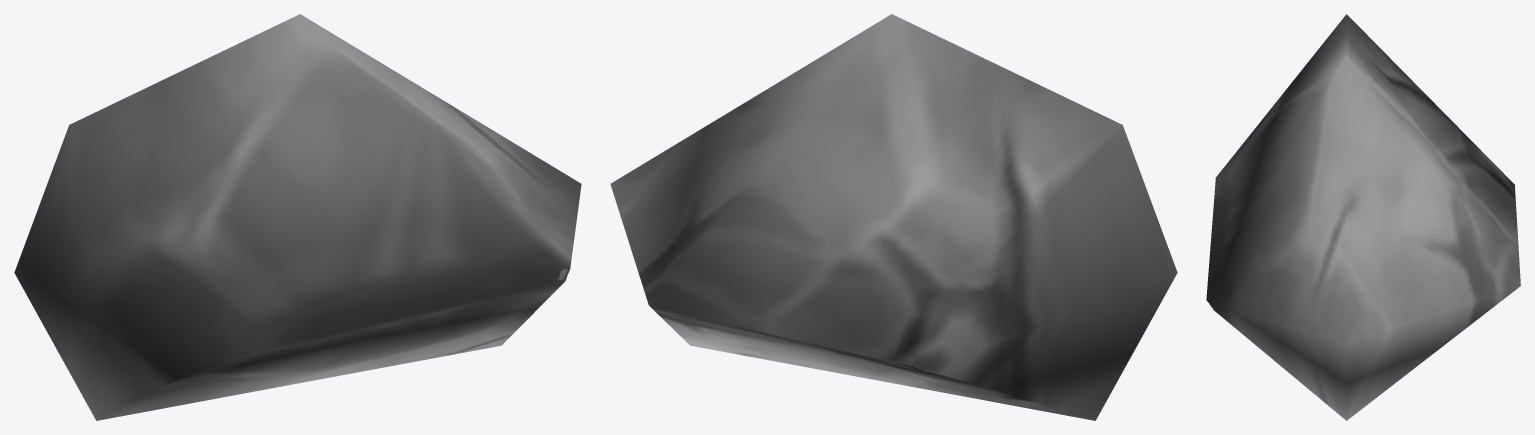
Rendered from small_rock_01.FBX.
3 views of the same model, side by side, from view 1: azimuth 30°, elevation 25°; view 2: azimuth 150°, elevation 25°; view 3: azimuth 270°, elevation 25° (orthographic). The views are drawn at different scales.
Visible parts, largest first — view 1: Sphere001; view 2: Sphere001; view 3: Sphere001.
Boxes of the visible parts, box(x1,y1,x2,y2) form: Sphere001: box(14, 14, 581, 420); Sphere001: box(610, 14, 1177, 420); Sphere001: box(1206, 14, 1520, 420).
Bounding box in the file's own units: 4.18 × 2.68 × 2.65.
